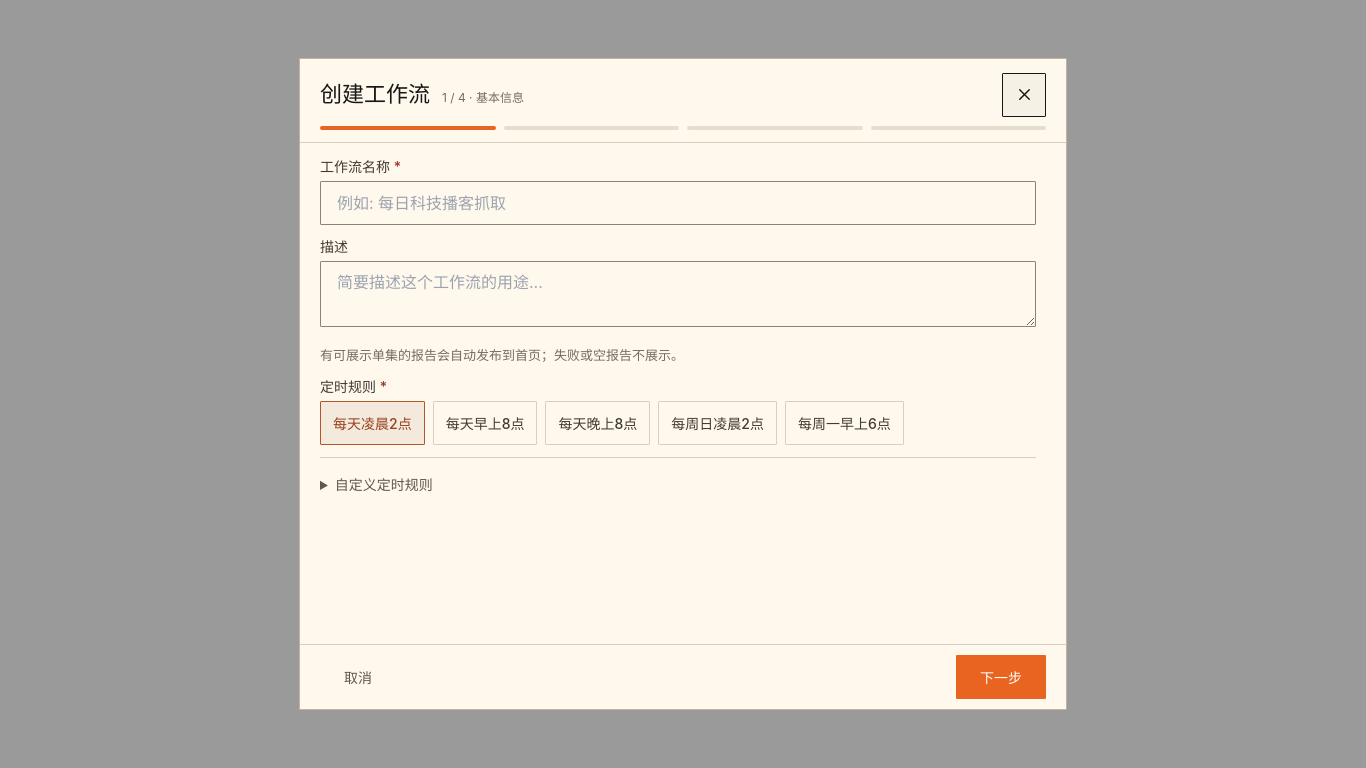
Scenario: WorkflowFormModal coverage filter (#419) › keeps a covered selection in the selected panel after enabling the filter
Type "覆盖筛选工作流" into the field with placeholder "例如: 每日科技播客抓取".
click(678, 203); type("覆盖筛选工作流")  # box [320,181,1036,225]
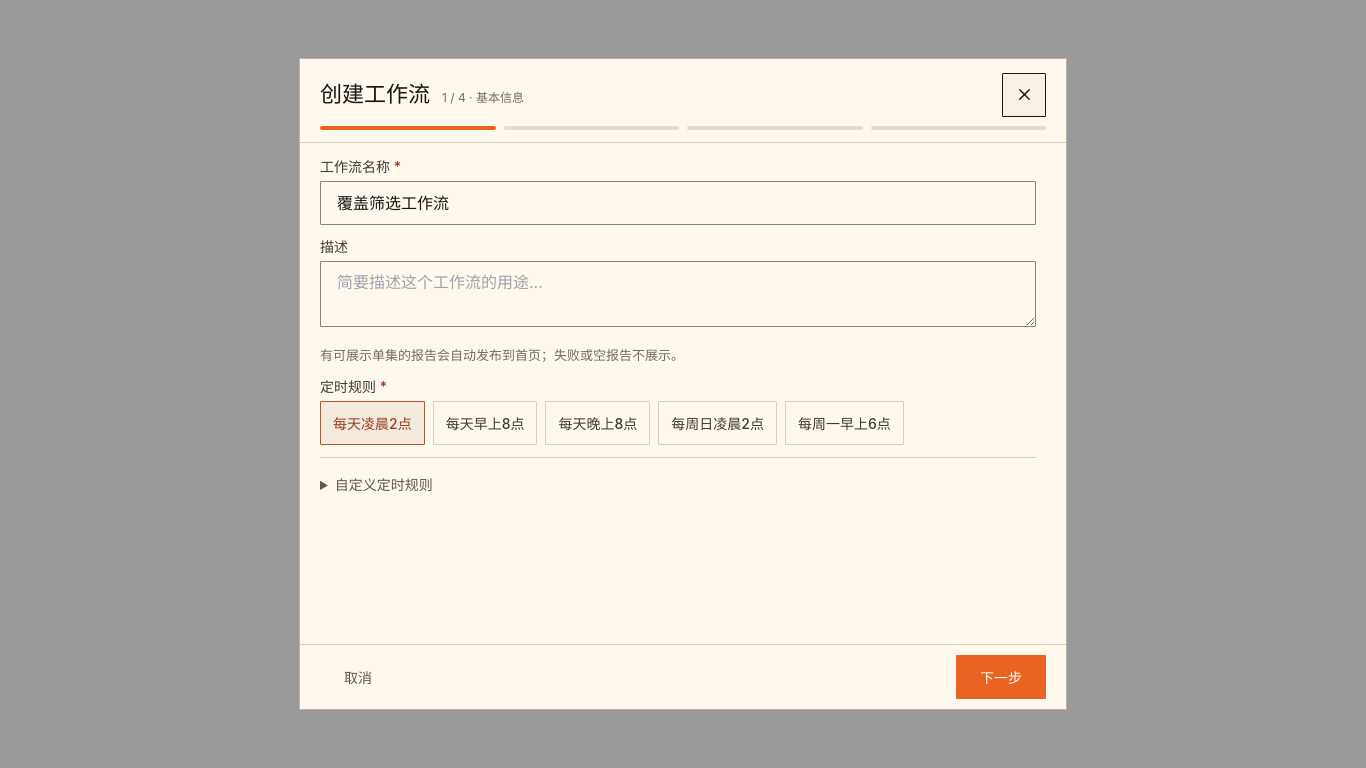
Click the button "下一步".
click(1001, 677)  # box [956,655,1046,699]
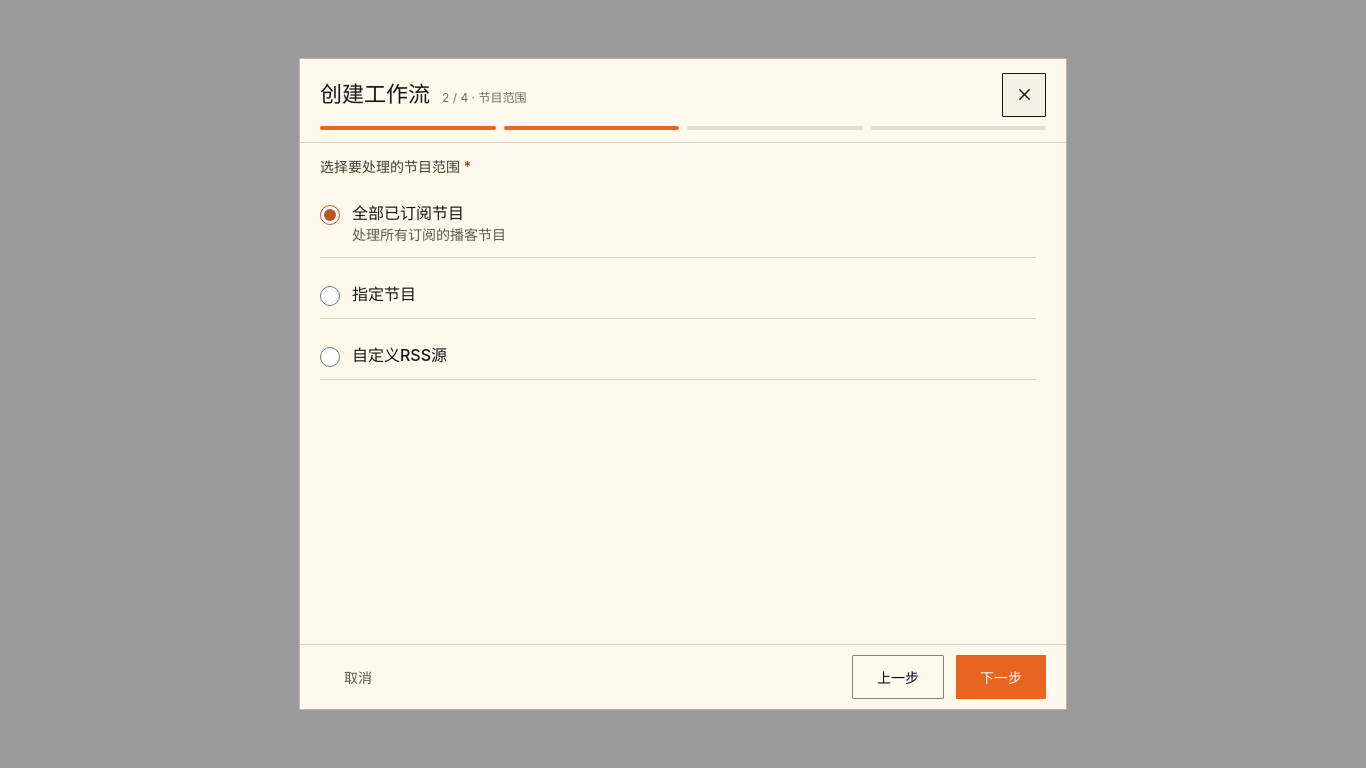
Check: the text "指定节目" is shown
Click the text "指定节目".
click(384, 294)  # box [352,284,416,304]
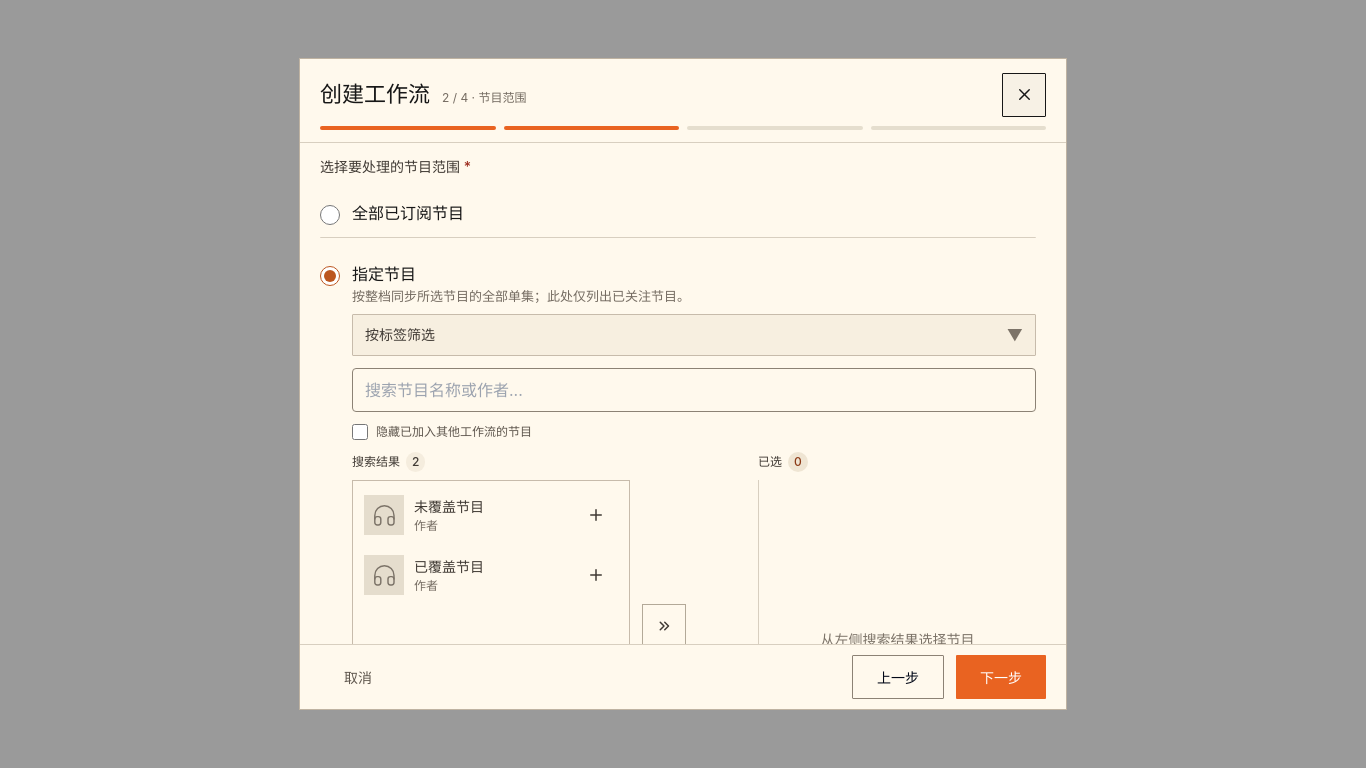
Click the text "已覆盖节目".
click(449, 566)  # box [414,558,484,575]
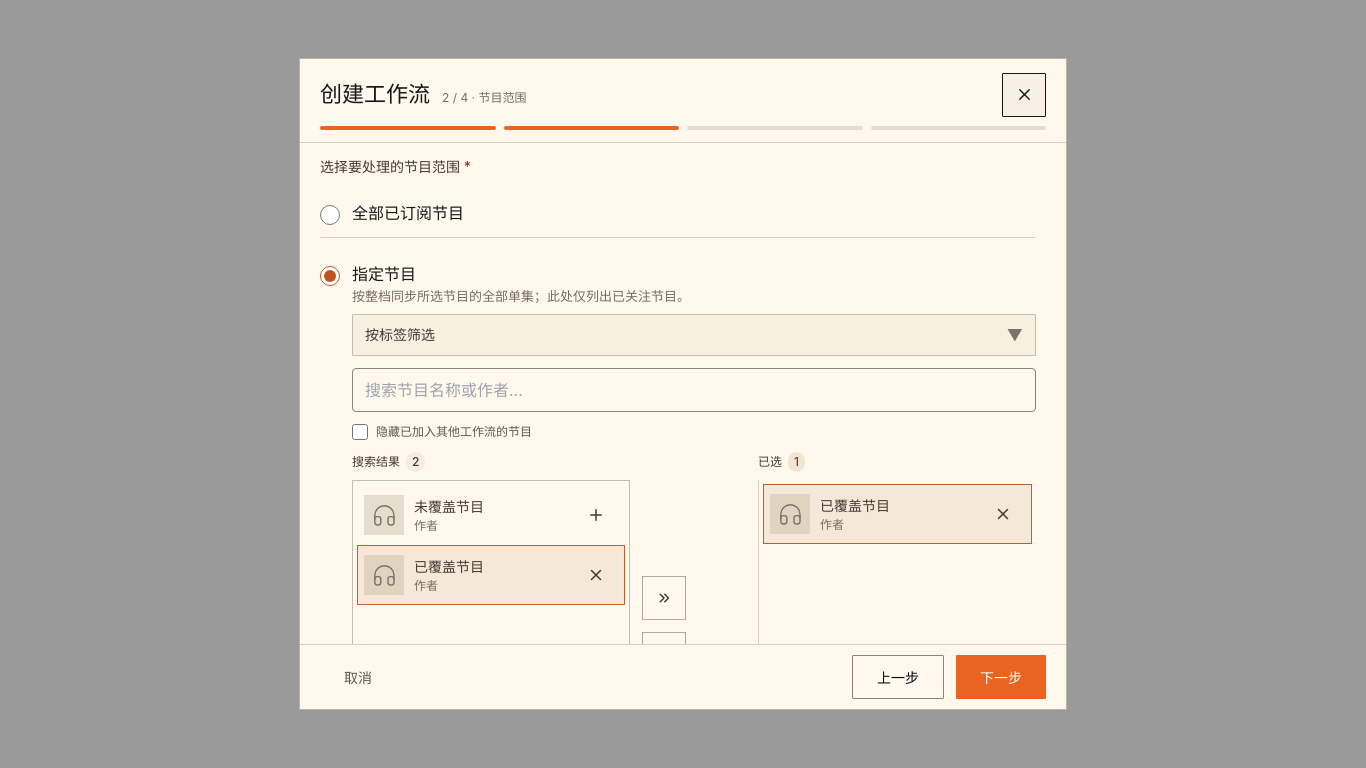
Click the checkbox labelled "隐藏已加入其他工作流的节目".
click(360, 432)  # box [352,424,368,440]
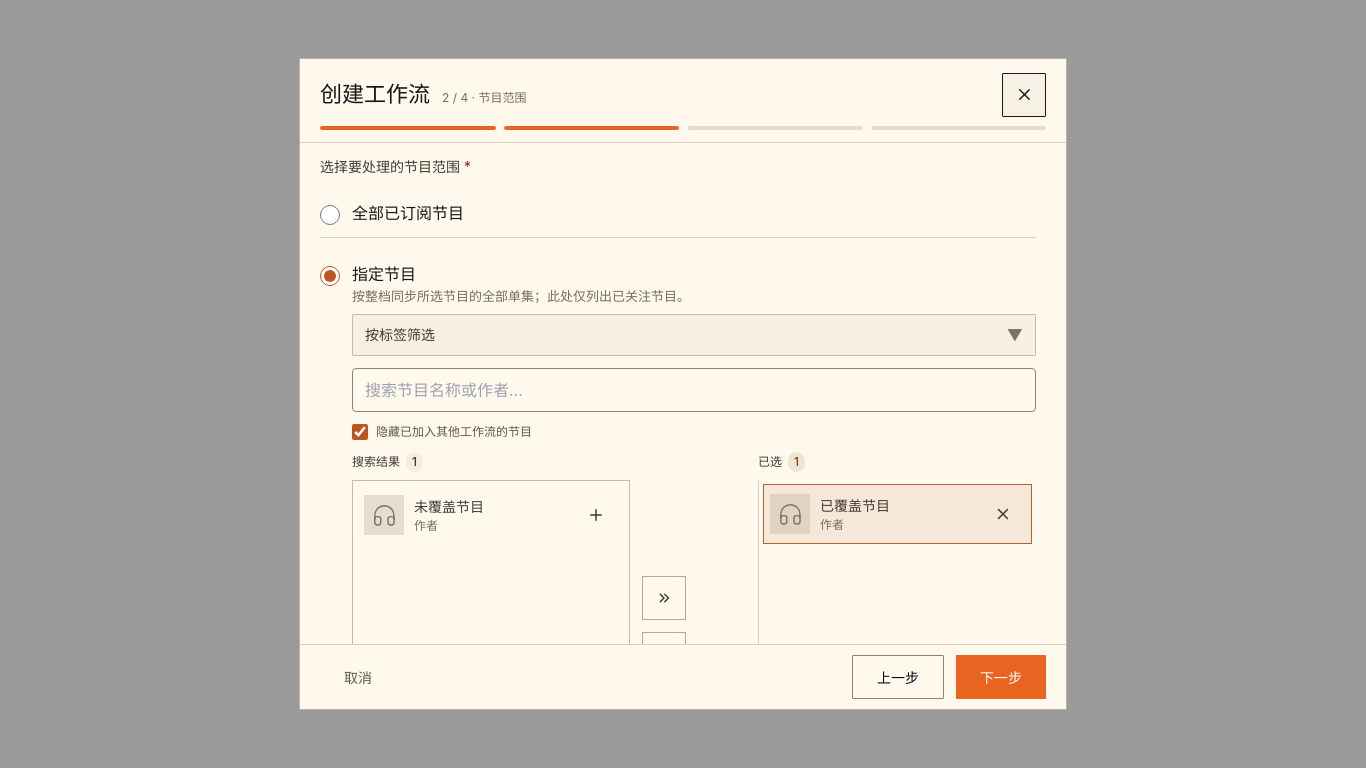
Click the checkbox labelled "隐藏已加入其他工作流的节目".
click(360, 432)  # box [352,424,368,440]
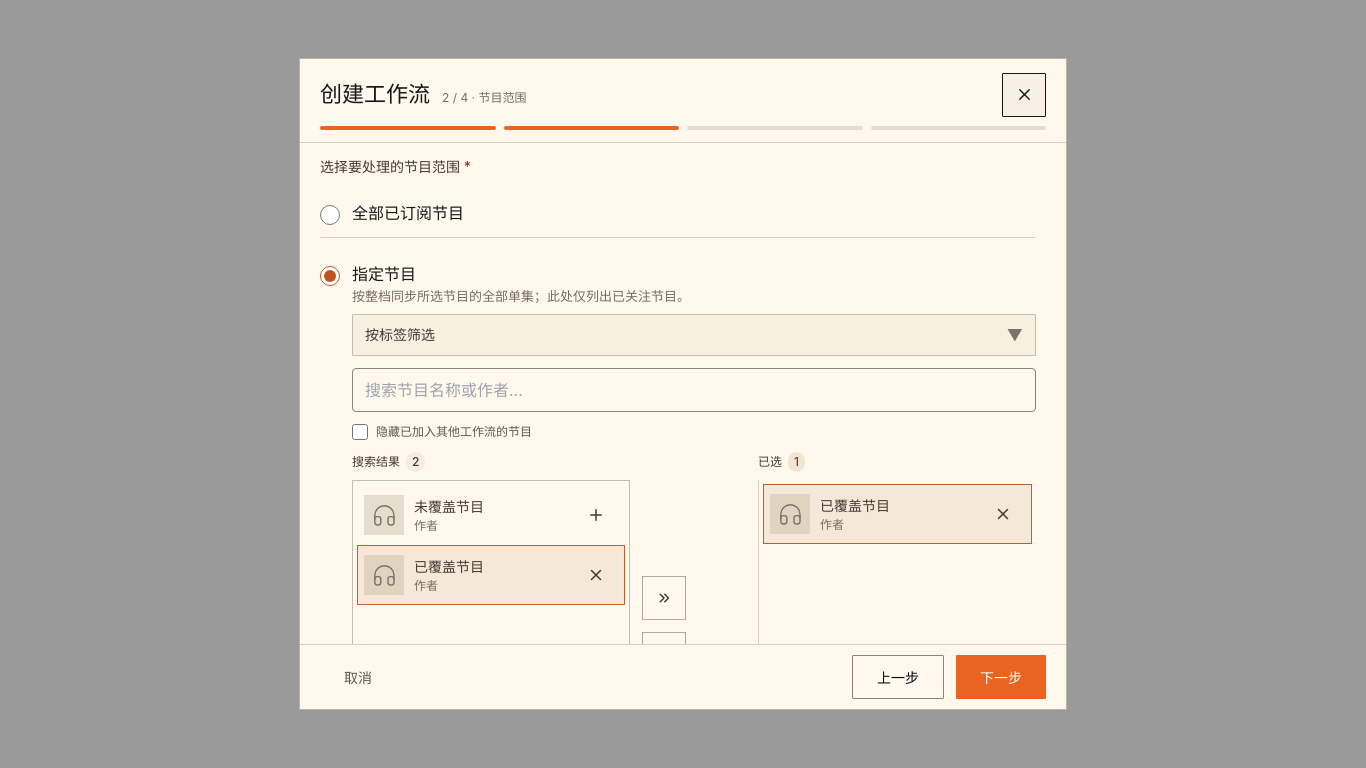
Check: the text "已覆盖节目" is shown 3 times
